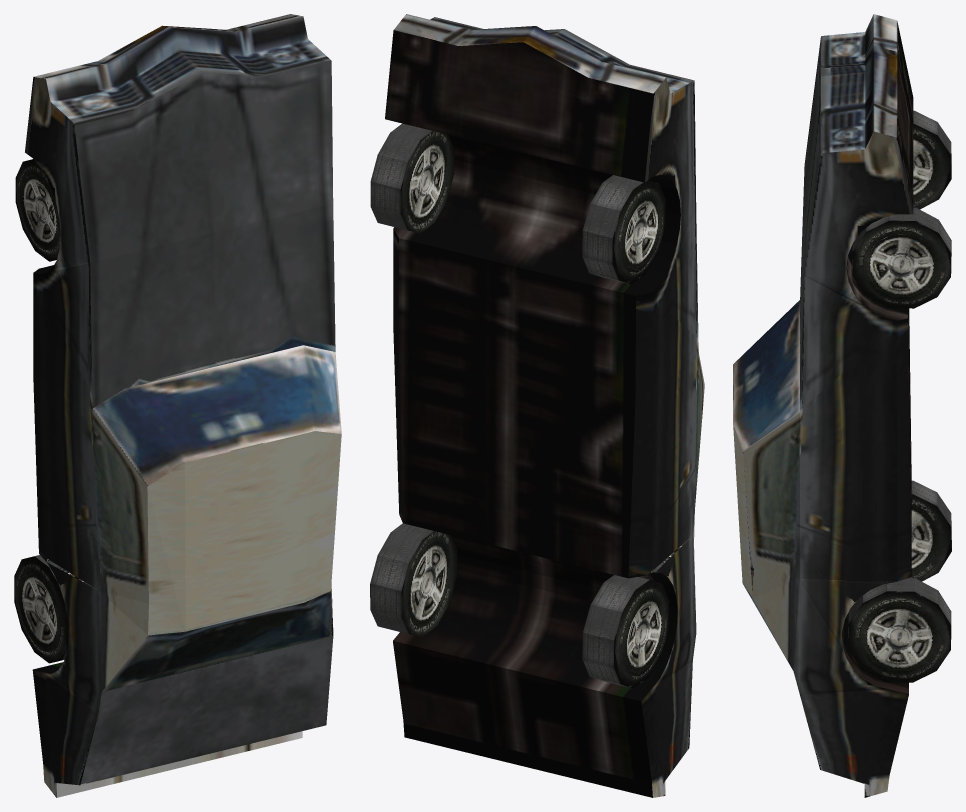
File: carpack_hatch2_wtf.obj
3 renders of one model, left to right at view 1: azimuth 30°, elevation 25°; view 2: azimuth 150°, elevation 25°; view 3: azimuth 270°, elevation 25°, orthographic. The views are drawn at different scales.
Visible parts, largest first — view 1: group2; view 2: group2; view 3: group2.
Part boxes in pixels (<box>): group2: <box>14,14,341,797</box>; group2: <box>370,14,704,797</box>; group2: <box>733,14,951,797</box>.
Bounding box in the file's own units: 242 × 660 × 190.
